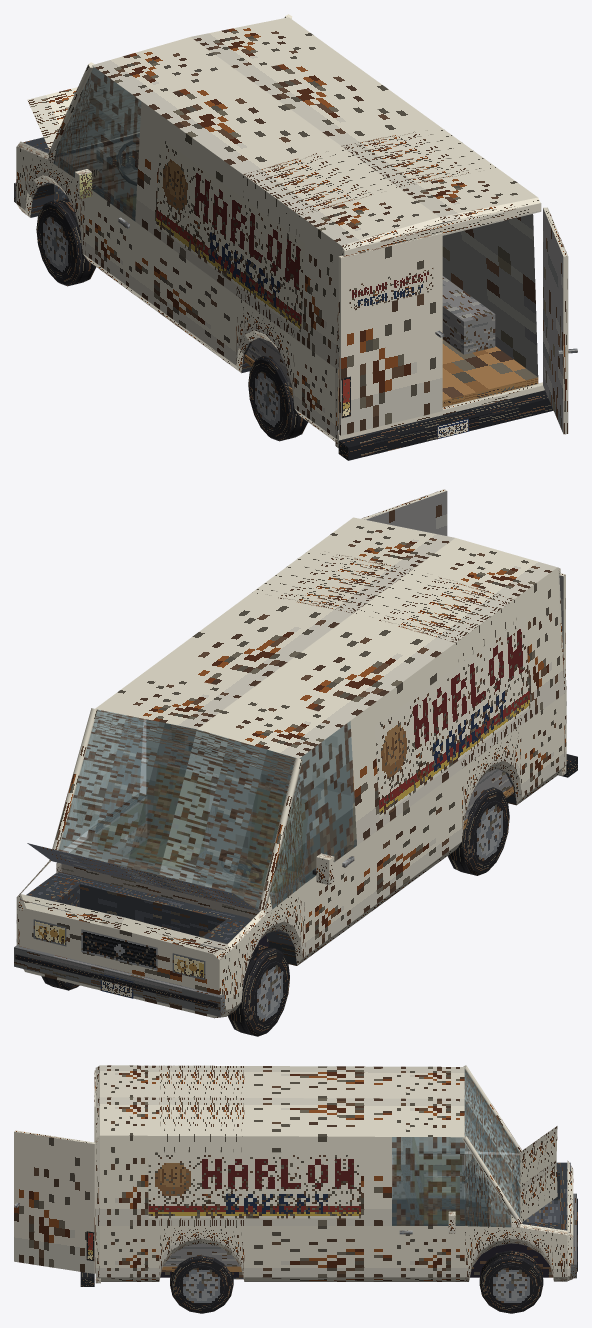
The model's file is VEH_DeliveryVan_BrokenDown.glb.
3 views of the same model, one above another, from view 1: azimuth 30°, elevation 25°; view 2: azimuth 150°, elevation 25°; view 3: azimuth 270°, elevation 25° (orthographic). The views are drawn at different scales.
Visible parts, largest first — view 1: Body, RearDoor_L, Door_FL, RearDoor_R, Wheel_FL, Wheel_RL, Hood; view 2: Body, Door_FL, Door_FR, Wheel_FL, Wheel_RL, Hood, RearDoor_R; view 3: Body, RearDoor_R, Door_FR, Wheel_FR, Wheel_RR, Hood, Door_FL.
Boxes of the visible parts, x1=… form: Body: x1=14, y1=14, x2=553, y2=460; RearDoor_L: x1=338, y1=233, x2=444, y2=435; Door_FL: x1=75, y1=65, x2=141, y2=298; RearDoor_R: x1=543, y1=207, x2=577, y2=434; Wheel_FL: x1=36, y1=198, x2=96, y2=286; Wheel_RL: x1=248, y1=356, x2=307, y2=441; Hood: x1=27, y1=87, x2=139, y2=149; Body: x1=14, y1=517, x2=577, y2=1018; Door_FL: x1=298, y1=721, x2=356, y2=963; Door_FR: x1=88, y1=710, x2=146, y2=855; Wheel_FL: x1=228, y1=944, x2=289, y2=1036; Wheel_RL: x1=447, y1=787, x2=509, y2=875; Hood: x1=27, y1=843, x2=259, y2=911; RearDoor_R: x1=361, y1=489, x2=447, y2=535; Body: x1=80, y1=1065, x2=577, y2=1286; RearDoor_R: x1=14, y1=1130, x2=95, y2=1273; Door_FR: x1=392, y1=1137, x2=464, y2=1281; Wheel_FR: x1=479, y1=1250, x2=543, y2=1313; Wheel_RR: x1=170, y1=1255, x2=233, y2=1313; Hood: x1=519, y1=1126, x2=557, y2=1222; Door_FL: x1=392, y1=1137, x2=464, y2=1199.
Size of what is drawn, in the model's own units: 2.32 by 2.26 by 6.37.
Materials: 3 (3 with a texture image).
